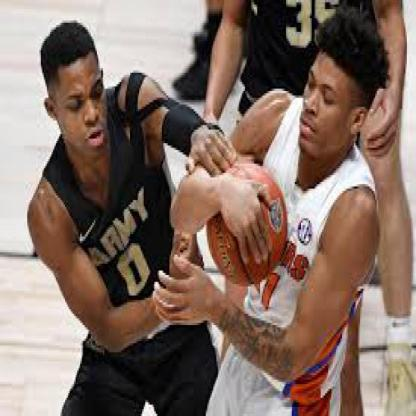basketball: (207, 163, 288, 289)
